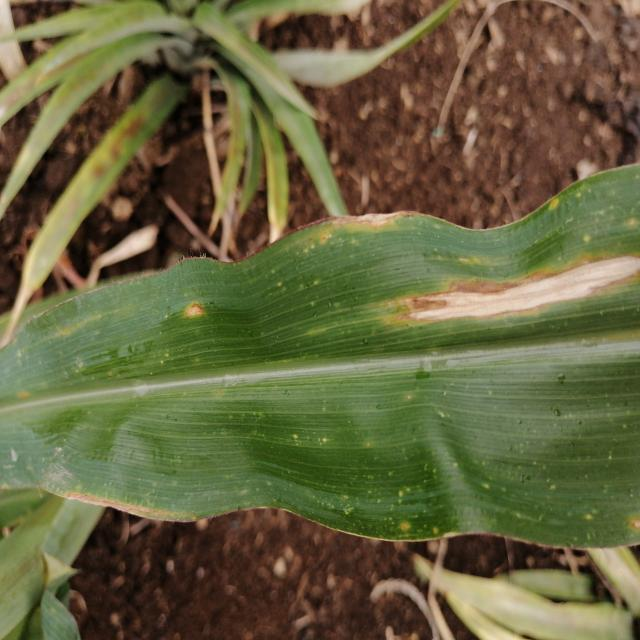Corn_Leaf_Blight: (270, 163, 640, 571)
